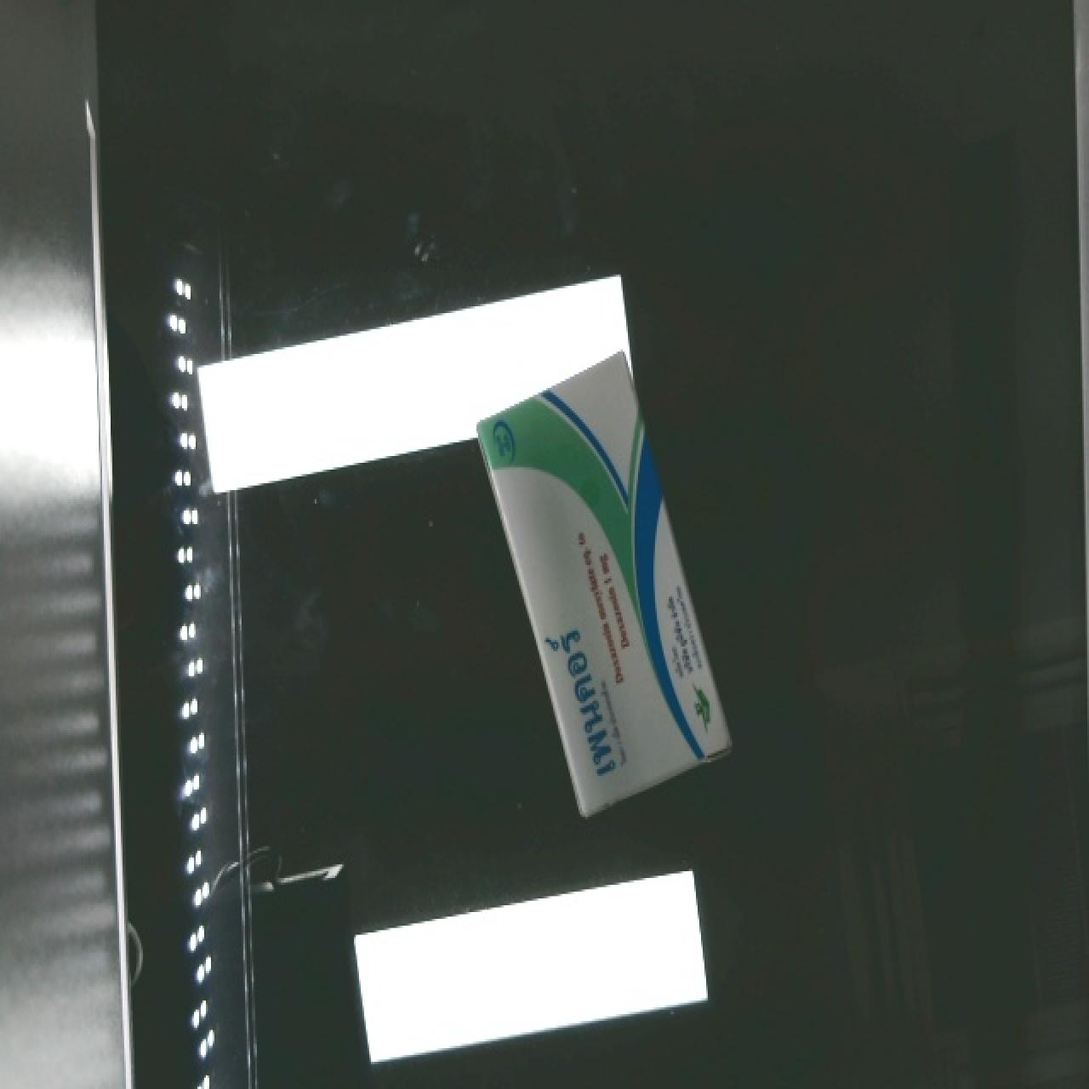medicine_label_obb: (530, 597, 632, 799)
